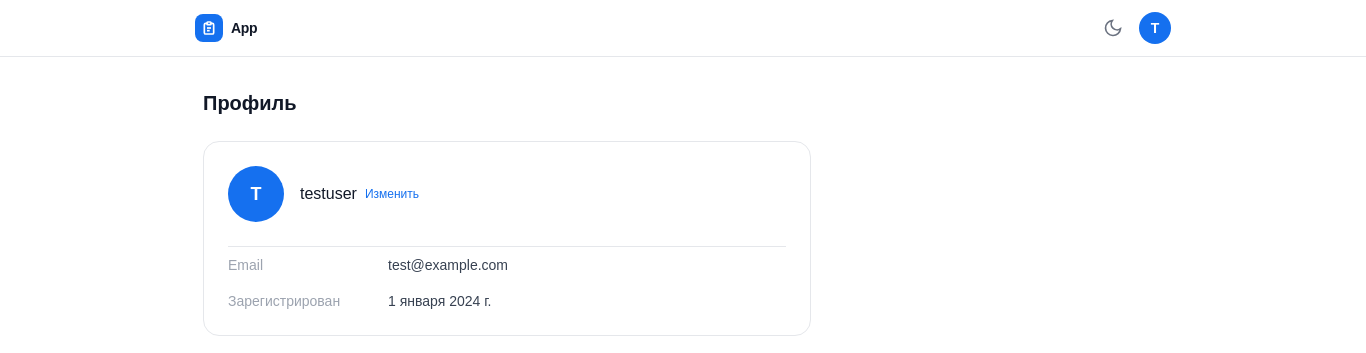
Test: ProfilePage › «Сохранить» вызывает updateProfile и показывает «Имя обновлено»
expect the text "testuser" is shown: met, box [300, 182, 357, 206]
Click the button "Изменить" at (392, 194), box [365, 186, 419, 202]
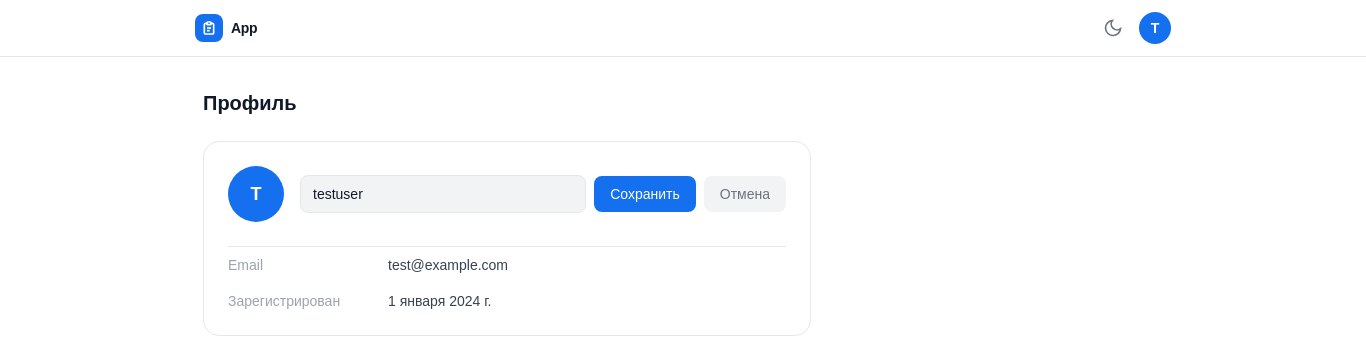
Replace the text in the field showing "testuser" with "newname" at (443, 194), box [300, 175, 586, 213]
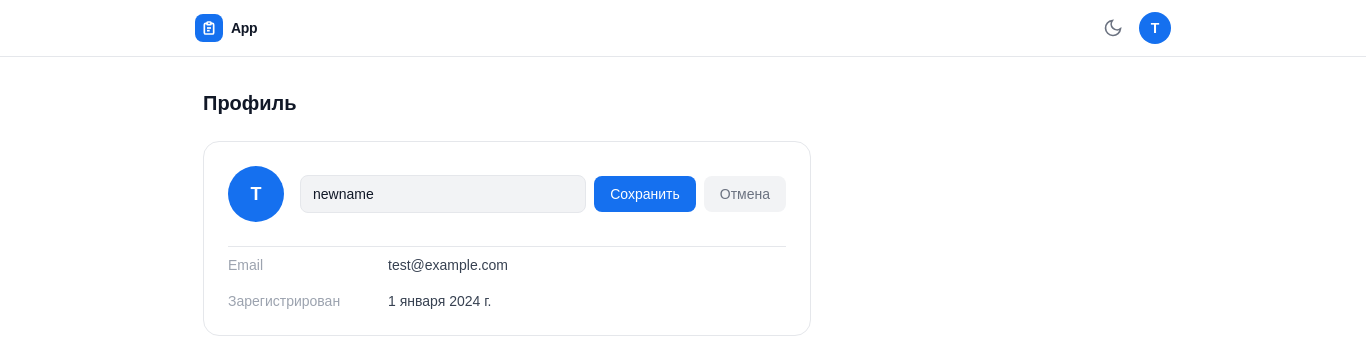
Click the button "Сохранить" at (645, 194), box [594, 176, 696, 212]
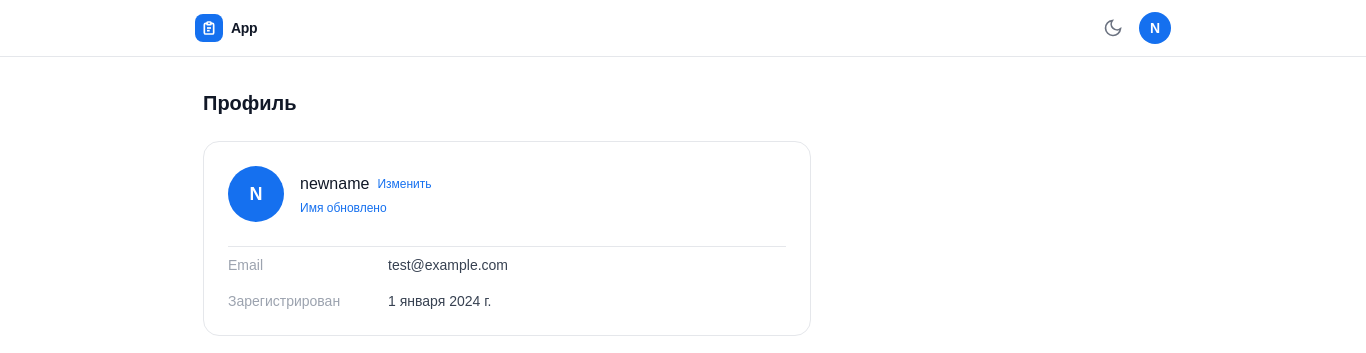
expect the text "Имя обновлено" is shown: met, box [300, 201, 387, 215]
expect the text "newname" is shown: met, box [300, 172, 369, 196]
